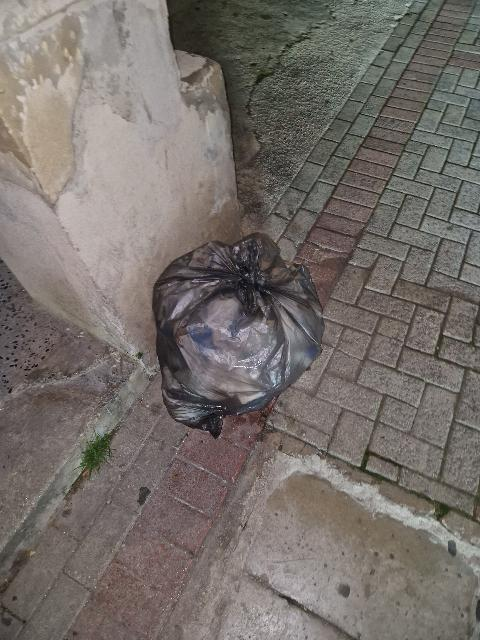Recyclable -Grey-: (153, 233, 324, 437)
